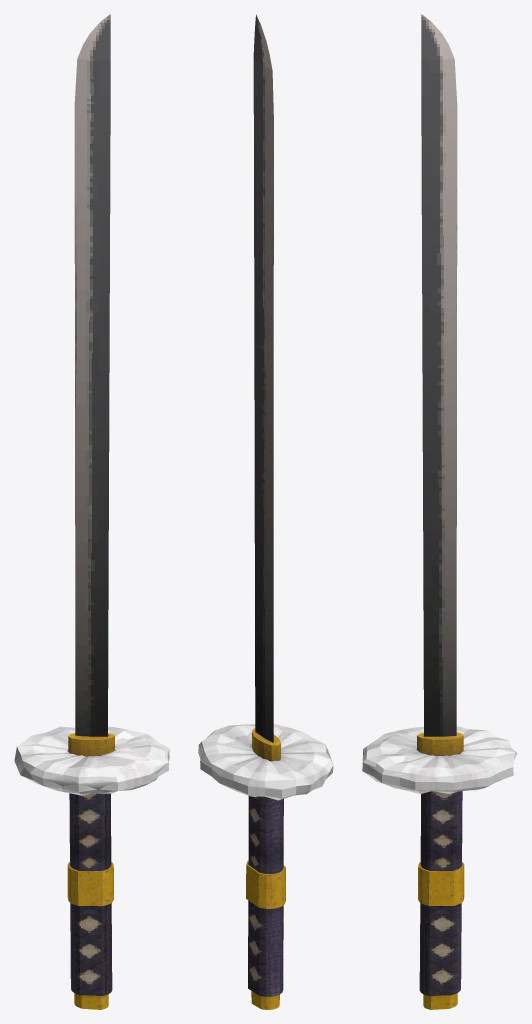
Rendered from item_mage_pirate_sword.glb.
3 views of the same model, side by side, from view 1: azimuth 90°, elevation 25°; view 2: azimuth 210°, elevation 25°; view 3: azimuth 270°, elevation 25° (orthographic).
Parts seen in each view (by area): view 1: trafalgarSword; view 2: trafalgarSword; view 3: trafalgarSword.
Part boxes in pixels (left/top/right/bottom): trafalgarSword: left=14, top=14, right=169, bottom=1009; trafalgarSword: left=198, top=14, right=333, bottom=1009; trafalgarSword: left=362, top=14, right=517, bottom=1009.
Bounding box in the file's own units: 0.2272 × 1.97 × 0.2788.
Materials: 1 (1 with a texture image).
